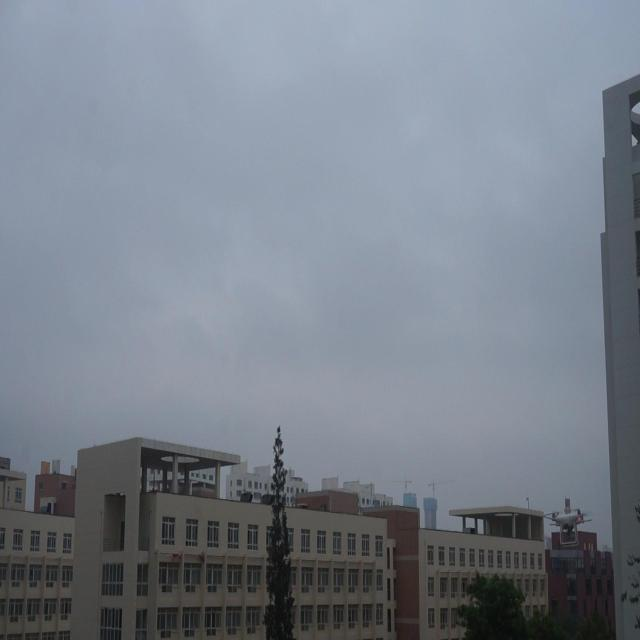drone: (539, 502, 596, 552)
